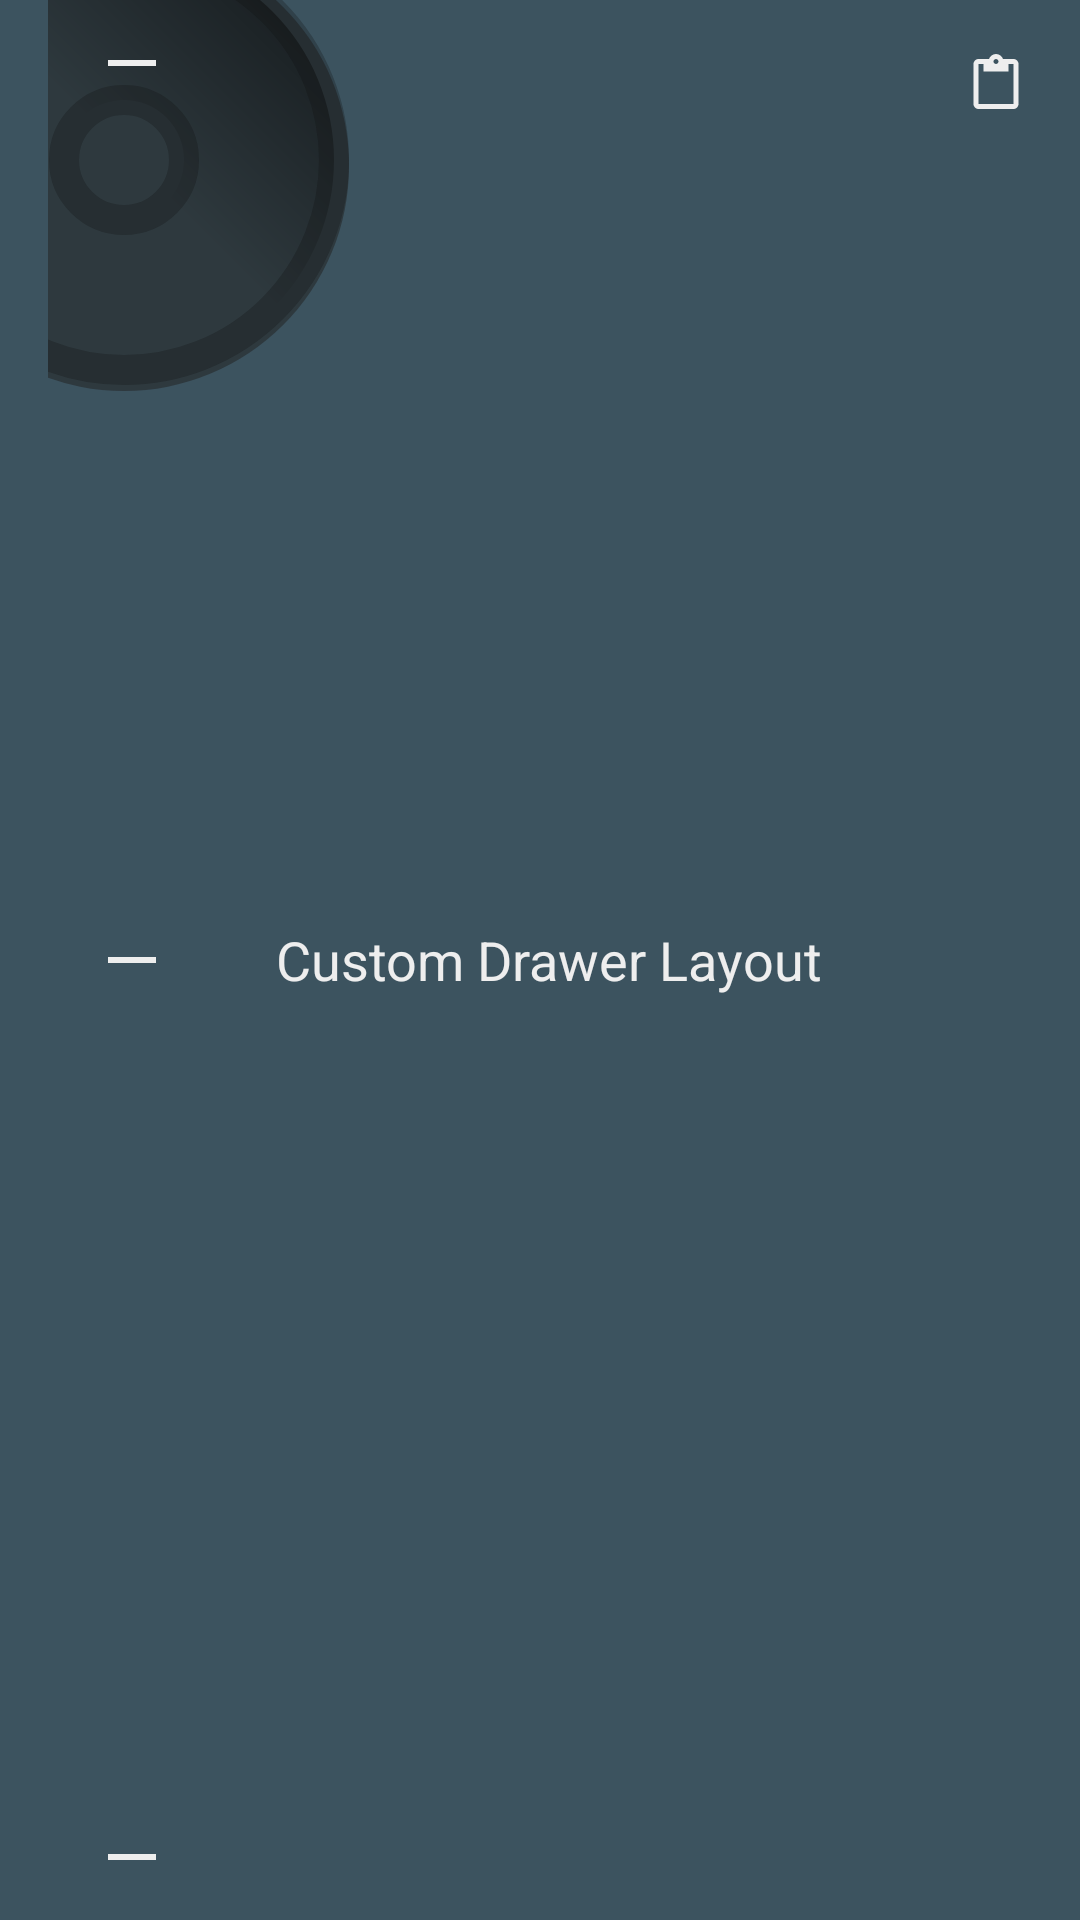

Icon click points for this 1080×1920 phone screenshot, format point (x, y):
paste: point (996, 81)
